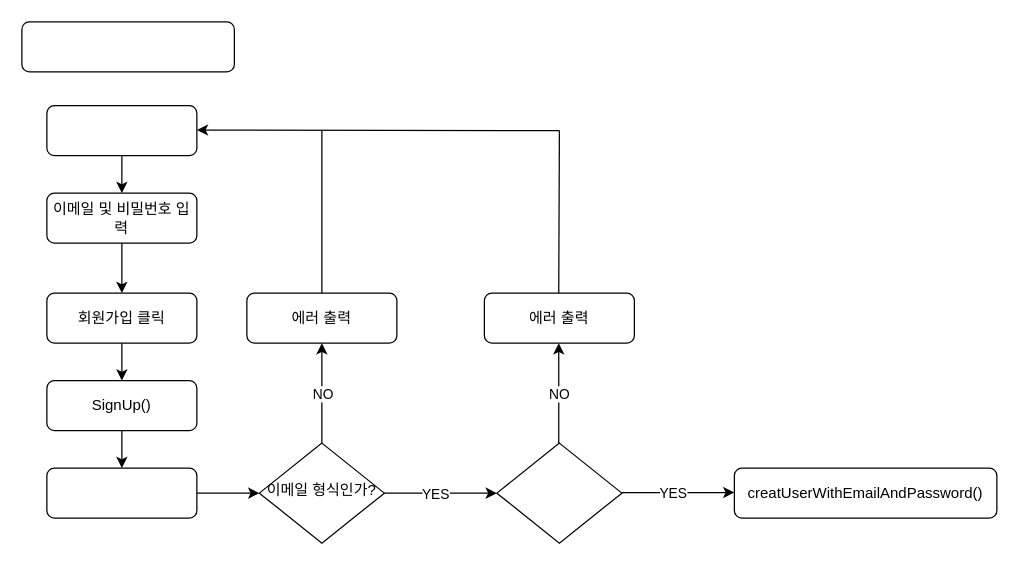
This 1019x565 diagram has some shape labels left out. Here are the shapes that lost their labels. From the top down, the centre of each, then its label:
point 127,46: Route : /register 회원가입 페이지
point 121,130: 회원가입
point 121,492: getAuth()
point 559,492: 복잡한 비밀번호인가?
